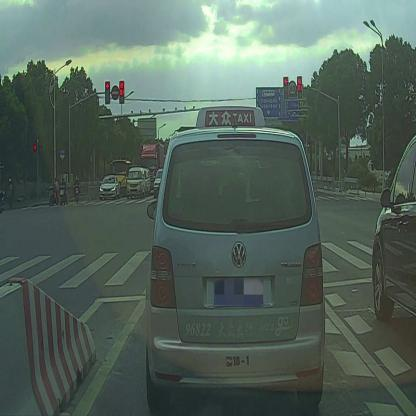Red Light: (119, 81, 125, 106), (297, 76, 303, 100)
